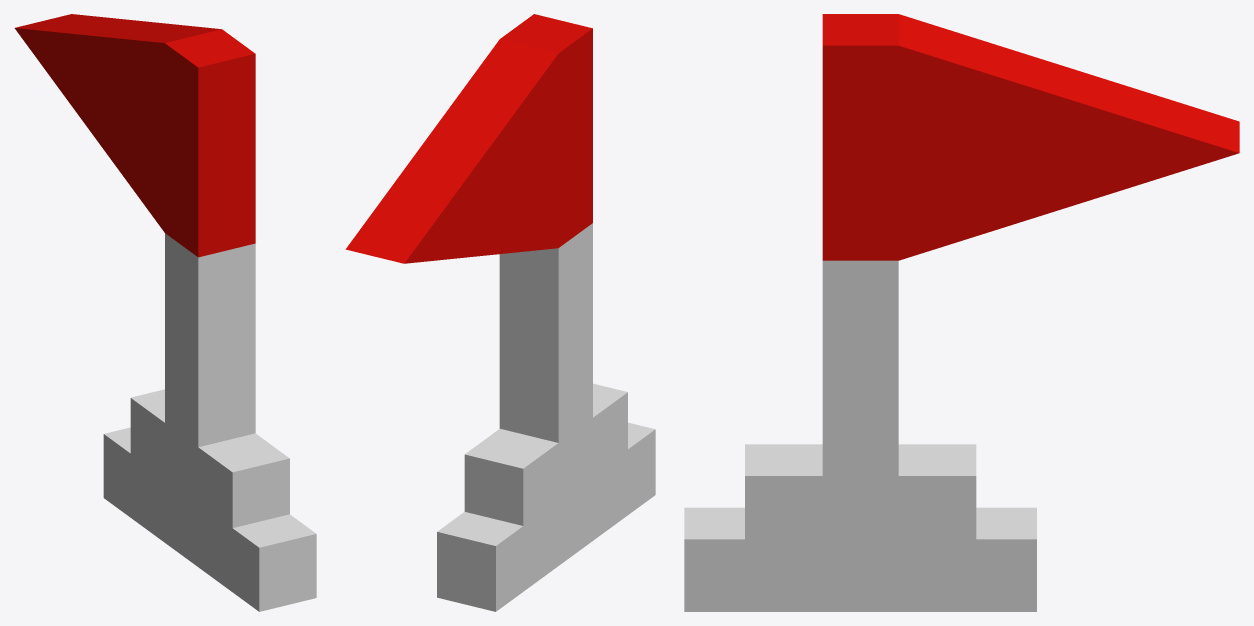
The model's file is Flag.fbx.
3 views of the same model, side by side, from view 1: azimuth 30°, elevation 25°; view 2: azimuth 150°, elevation 25°; view 3: azimuth 270°, elevation 25° (orthographic). The views are drawn at different scales.
Parts seen in each view (by area): view 1: Cube.001; view 2: Cube.001; view 3: Cube.001.
Part boxes in pixels (x1,y1,x2,y2): Cube.001: (14, 14, 316, 611); Cube.001: (345, 14, 655, 611); Cube.001: (684, 14, 1239, 611).
Bounding box in the file's own units: 42.47 × 354 × 315.
